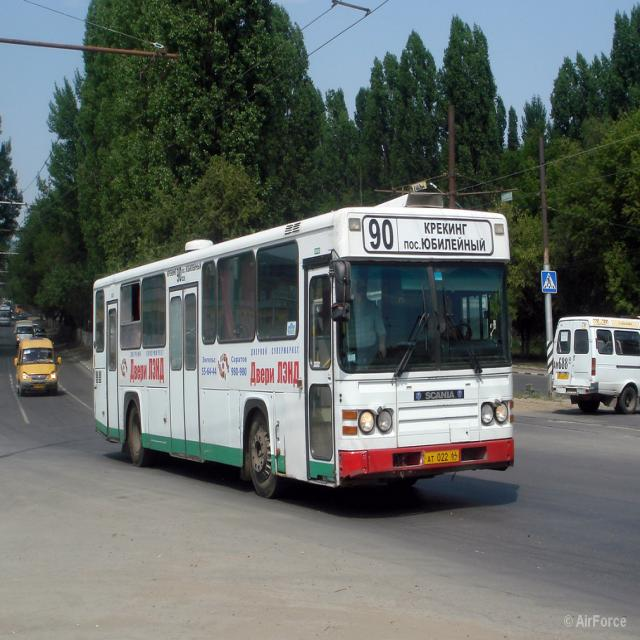number-of-bus: (365, 216, 398, 253)
